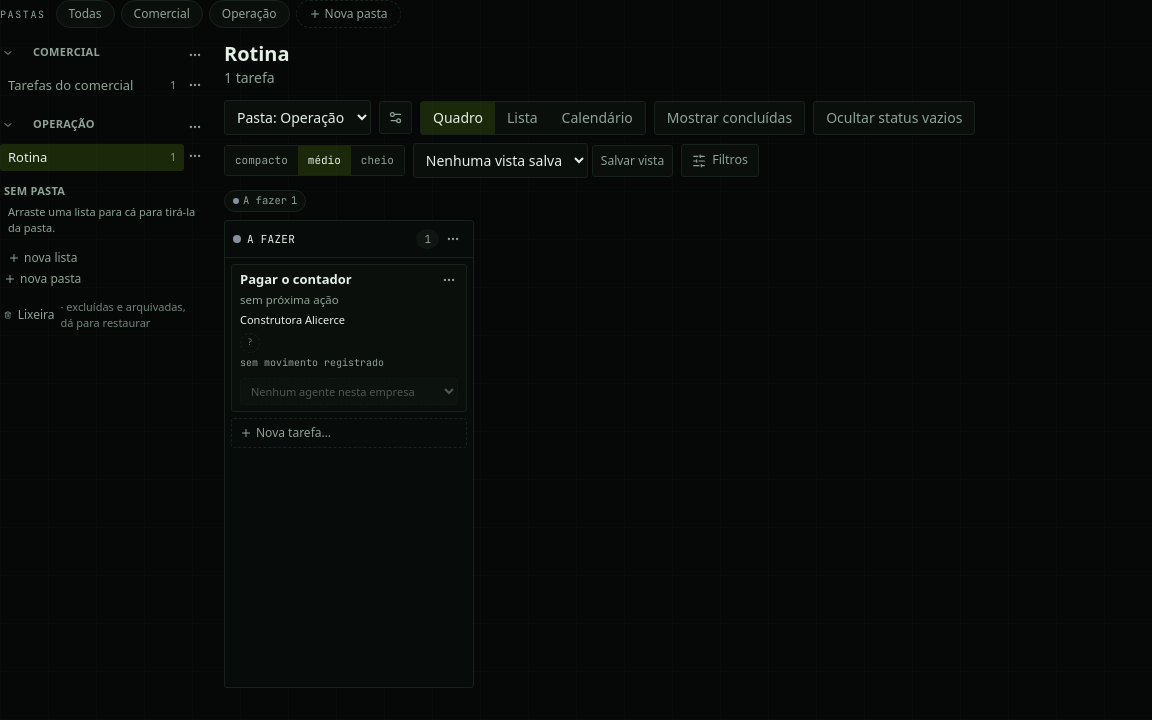
Test case: Layout 26/10: a lista "Tarefas do comercial" no Trabalho › a lista de outra tarefa não oferece a lista do comercial como destino no pop-up
What coordinates should you click on to do the following:
click the button "Pagar o contador"
I would click on:
 (296, 280)
Its box is [240,271,352,289].
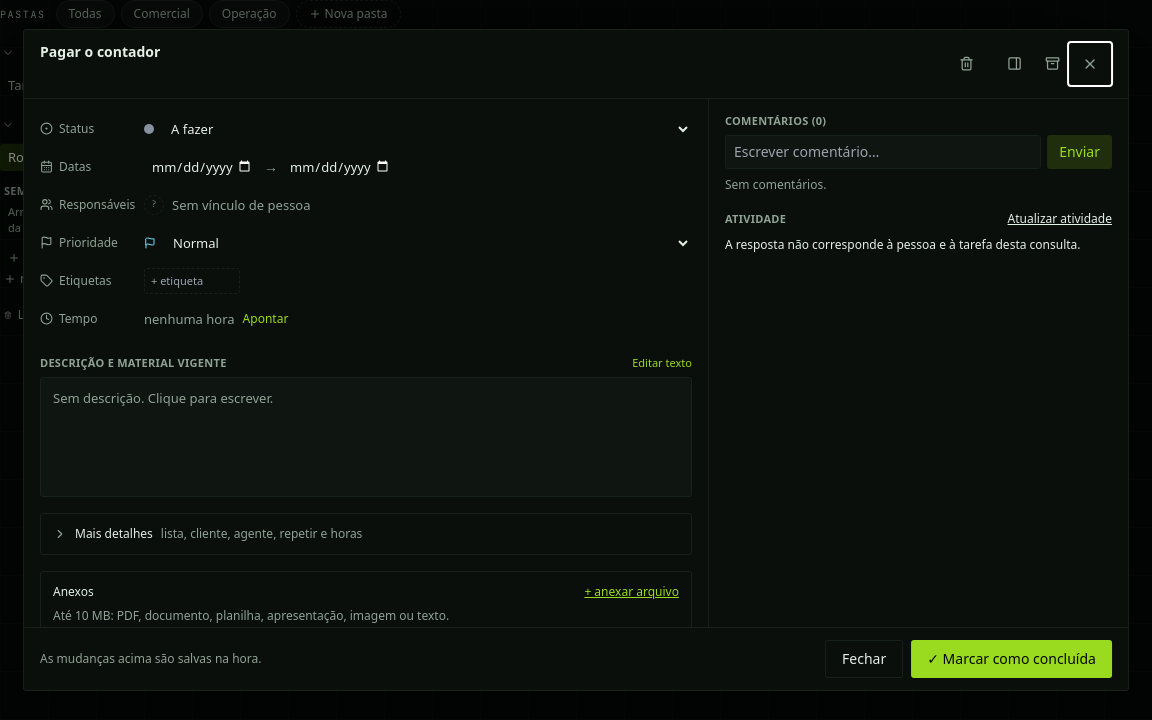
Expected: the element with test id "tarefa-mais-detalhes" is shown, [40,513,692,555]
